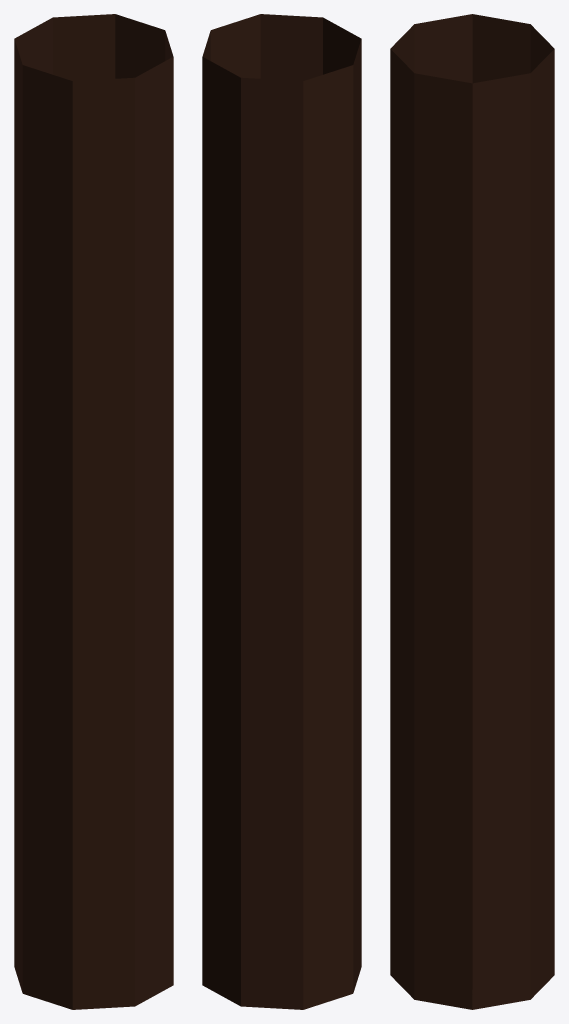
The model's file is branch_original.FBX.
The picture shows the model from 3 angles, left to right: view 1: azimuth 30°, elevation 25°; view 2: azimuth 150°, elevation 25°; view 3: azimuth 270°, elevation 25°; orthographic projection.
Visible parts, largest first — view 1: Cylinder011; view 2: Cylinder011; view 3: Cylinder011.
Boxes of the visible parts, box(x1,y1,x2,y2) form: Cylinder011: box(14, 14, 173, 1009); Cylinder011: box(202, 14, 361, 1009); Cylinder011: box(390, 14, 554, 1009).
Size of the model in its own units: 4.76 by 29.61 by 4.76.
